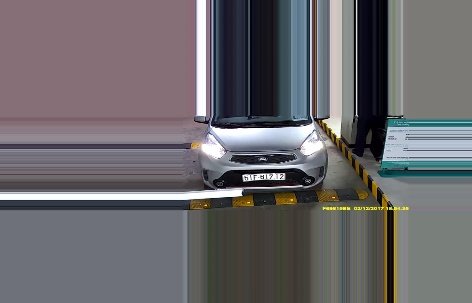plate: (239, 168, 288, 183)
